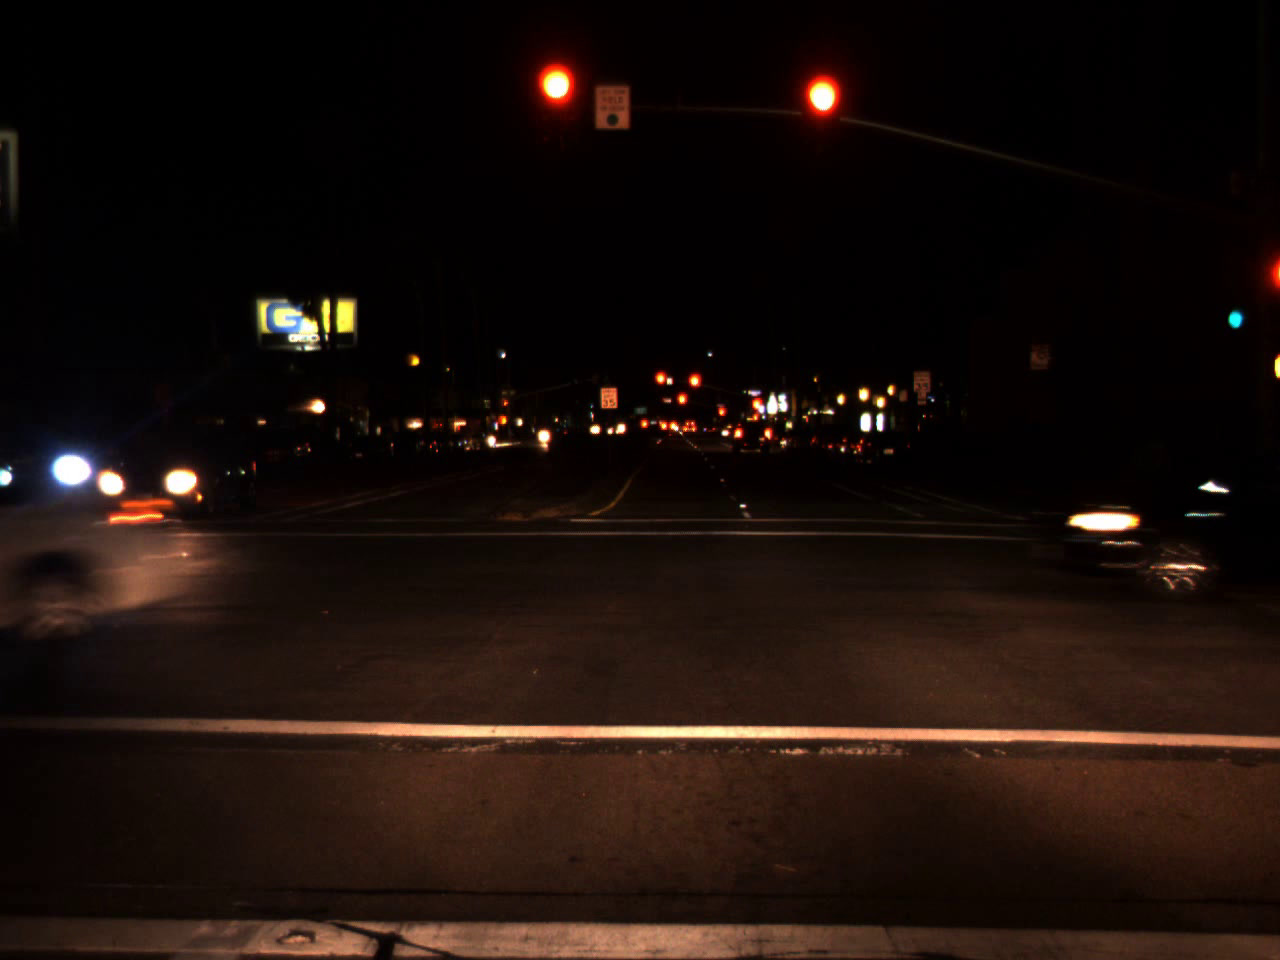stop: (537, 65, 577, 143), (801, 76, 841, 154), (686, 372, 702, 401), (653, 370, 666, 399), (676, 391, 688, 418), (750, 396, 763, 412), (717, 406, 726, 427), (502, 400, 508, 410)
